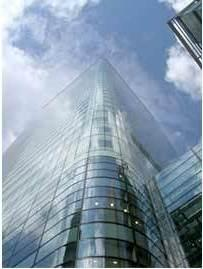building: (3, 55, 203, 269)
